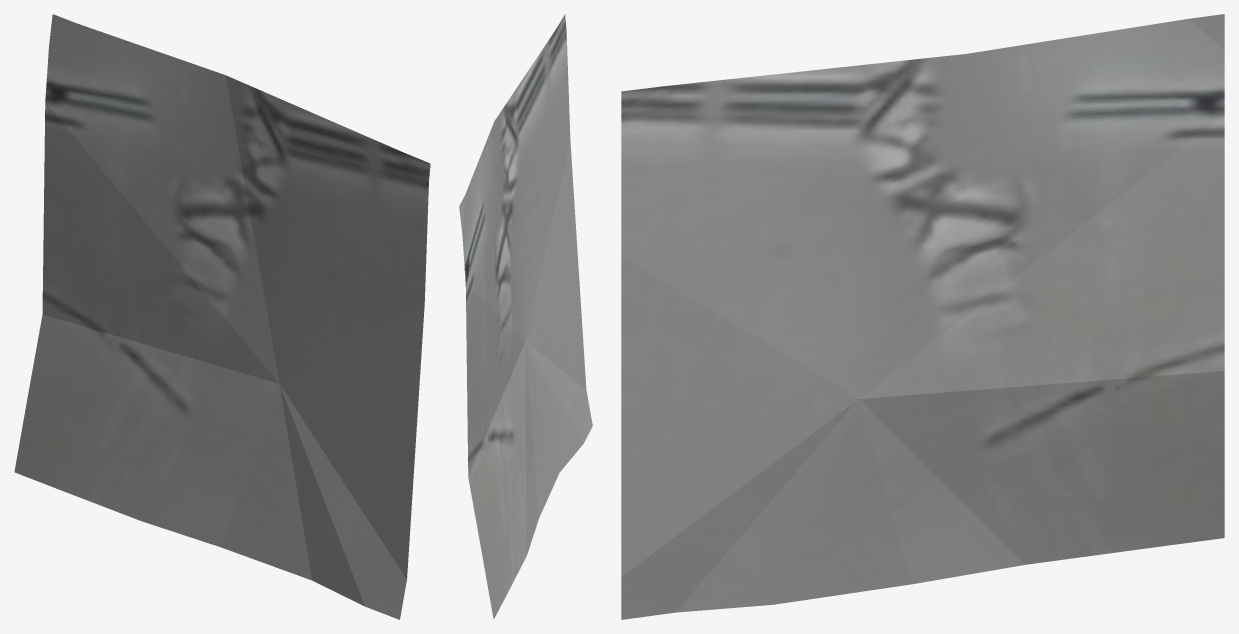
The picture shows the model from 3 angles, left to right: view 1: azimuth 30°, elevation 25°; view 2: azimuth 150°, elevation 25°; view 3: azimuth 270°, elevation 25°; orthographic projection. The views are drawn at different scales.
Size of the model in its own units: 0.3288 by 0.8374 by 0.8373.
Materials: 3 (3 with a texture image).
